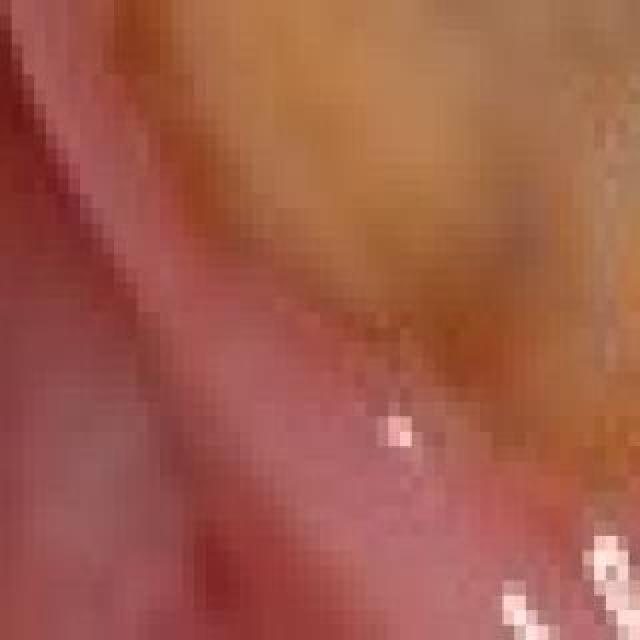cavities: (120, 0, 640, 516)
